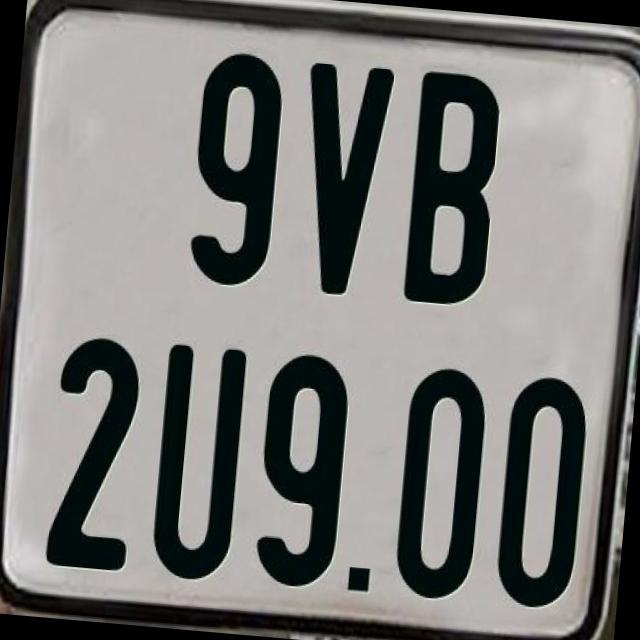0: (388, 363, 488, 608), (491, 374, 589, 615)
2: (40, 332, 147, 572)
9: (183, 50, 286, 298), (251, 347, 355, 592)
B: (398, 68, 503, 312)
U: (146, 342, 245, 580)
V: (290, 57, 400, 303)
